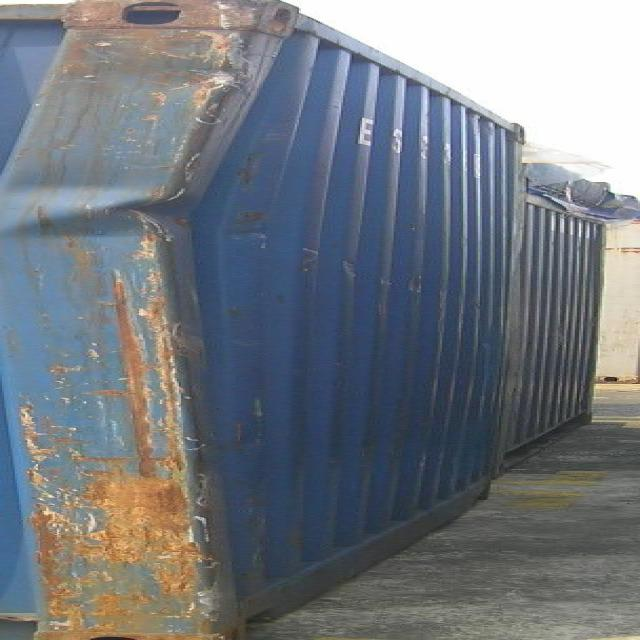dent: (3, 2, 271, 379)
